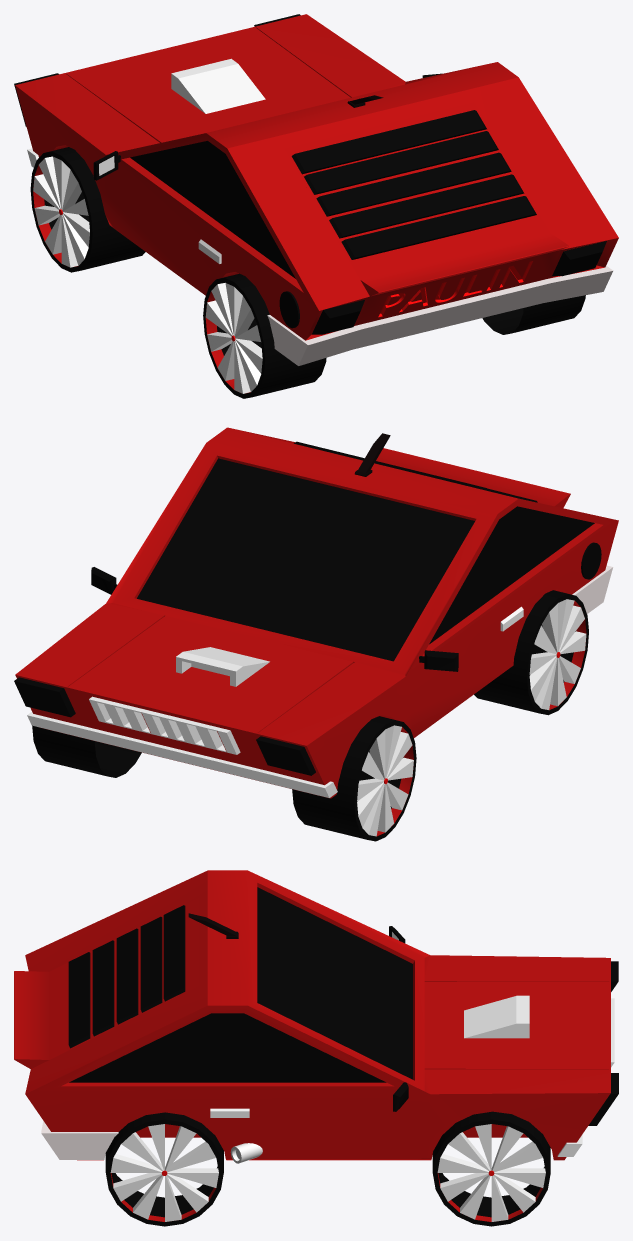
Rendered from carro.glb.
3 renders of one model, top to bottom at view 1: azimuth 30°, elevation 25°; view 2: azimuth 150°, elevation 25°; view 3: azimuth 270°, elevation 25°, orthographic. The views are drawn at different scales.
Parts seen in each view (by area): view 1: pCube18, pCylinder9, pCylinder3, pCube15, pCube11, pCube13, pCube14, pCube12, pCube7, pCylinder11, pCylinder12, pCube10; view 2: pCube18, pCylinder3, pCylinder9, pCylinder10, pCube7, pCube10, pCube11, pCylinder12, pCube8; view 3: pCube18, pCylinder10, pCylinder11, pCube7, pCube11, pCube12, pCube15, pCube14, pCube13, pCylinder13.
Part boxes in pixels (x1,y1,x2,y2): pCube18: [14, 14, 618, 365]; pCylinder9: [203, 273, 326, 398]; pCylinder3: [30, 147, 145, 272]; pCube15: [341, 196, 536, 259]; pCube11: [291, 110, 486, 174]; pCube13: [316, 152, 511, 216]; pCube14: [329, 174, 524, 238]; pCube12: [304, 131, 498, 194]; pCube7: [171, 58, 265, 113]; pCylinder11: [482, 295, 585, 334]; pCylinder12: [279, 291, 299, 328]; pCube10: [93, 151, 120, 180]; pCube18: [14, 427, 618, 798]; pCylinder3: [292, 716, 416, 841]; pCylinder9: [474, 590, 588, 715]; pCylinder10: [32, 725, 141, 777]; pCube7: [176, 647, 269, 686]; pCube10: [419, 650, 458, 671]; pCube11: [294, 441, 488, 490]; pCylinder12: [581, 542, 601, 579]; pCube8: [354, 433, 390, 476]; pCube18: [14, 870, 618, 1160]; pCylinder10: [432, 1111, 550, 1226]; pCylinder11: [105, 1112, 223, 1226]; pCube7: [464, 995, 529, 1038]; pCube11: [163, 905, 185, 1001]; pCube12: [140, 916, 162, 1012]; pCube15: [68, 952, 90, 1048]; pCube14: [92, 940, 114, 1036]; pCube13: [116, 928, 138, 1024]; pCylinder13: [230, 1143, 262, 1163].
Size of the model in its own units: 6.06 by 3.93 by 9.16.
